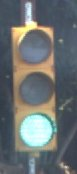Green: (8, 24, 60, 160)
